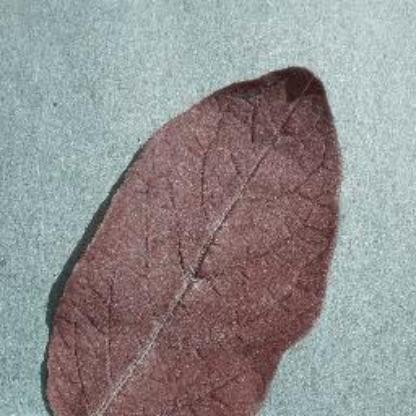Healthy-plant: (10, 60, 390, 416)
